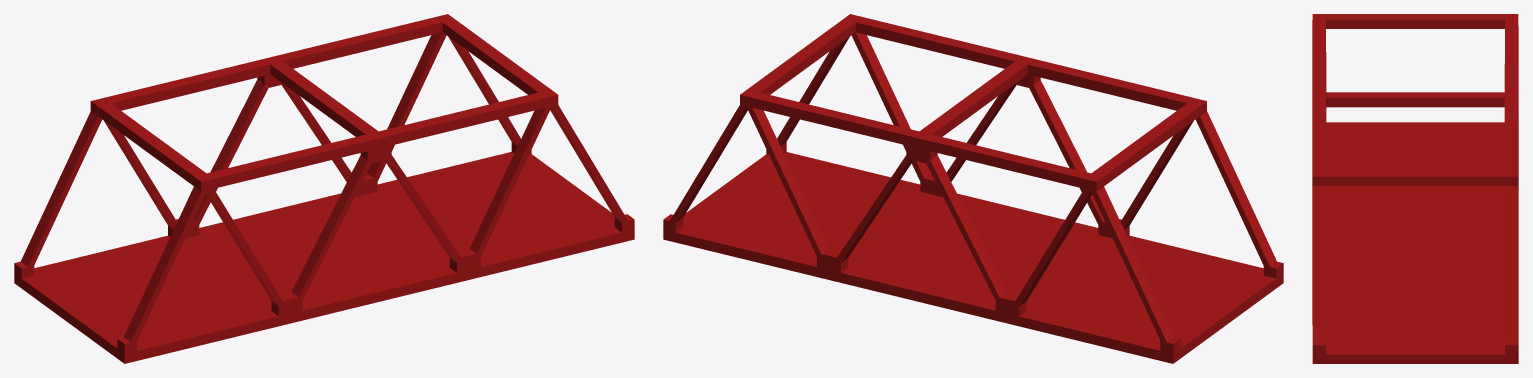
File: santa.obj
3 renders of one model, left to right at view 1: azimuth 30°, elevation 25°; view 2: azimuth 150°, elevation 25°; view 3: azimuth 270°, elevation 25°, orthographic. The views are drawn at different scales.
Parts seen in each view (by area): view 1: object_19, object_8, object_7, object_28, object_25, object_15, object_10, object_23, object_5, object_11, object_18, object_9 (+8 smaller); view 2: object_19, object_7, object_8, object_25, object_28, object_18, object_9, object_23, object_11, object_5, object_15, object_10 (+8 smaller); view 3: object_19, object_5, object_11, object_23, object_7, object_8, object_27, object_26, object_22, object_24.
Part boxes in pixels (x1=…): object_19: x1=14, y1=152, x2=634, y2=363; object_8: x1=194, y1=89, x2=558, y2=191; object_7: x1=90, y1=14, x2=454, y2=115; object_28: x1=124, y1=187, x2=207, y2=342; object_25: x1=20, y1=111, x2=102, y2=266; object_15: x1=469, y1=106, x2=551, y2=256; object_10: x1=291, y1=155, x2=371, y2=300; object_23: x1=98, y1=103, x2=206, y2=185; object_5: x1=270, y1=61, x2=378, y2=136; object_11: x1=442, y1=19, x2=550, y2=94; object_18: x1=367, y1=32, x2=446, y2=181; object_9: x1=193, y1=80, x2=268, y2=224; object_19: x1=663, y1=152, x2=1283, y2=363; object_7: x1=740, y1=89, x2=1103, y2=191; object_8: x1=843, y1=14, x2=1206, y2=115; object_25: x1=1090, y1=187, x2=1173, y2=342; object_28: x1=1195, y1=111, x2=1276, y2=266; object_18: x1=746, y1=106, x2=828, y2=256; object_9: x1=926, y1=155, x2=1006, y2=300; object_23: x1=1091, y1=103, x2=1199, y2=185; object_11: x1=747, y1=19, x2=855, y2=94; object_5: x1=919, y1=61, x2=1027, y2=136; object_15: x1=851, y1=32, x2=930, y2=181; object_10: x1=1029, y1=80, x2=1104, y2=224; object_19: x1=1312, y1=122, x2=1518, y2=363; object_5: x1=1326, y1=92, x2=1504, y2=107; object_11: x1=1326, y1=170, x2=1504, y2=185; object_23: x1=1326, y1=14, x2=1504, y2=28; object_7: x1=1504, y1=14, x2=1518, y2=185; object_8: x1=1312, y1=14, x2=1325, y2=185; object_27: x1=1505, y1=186, x2=1518, y2=342; object_26: x1=1312, y1=186, x2=1325, y2=342; object_22: x1=1312, y1=340, x2=1326, y2=354; object_24: x1=1505, y1=342, x2=1518, y2=354.
Bounding box in the file's own units: 18.42 × 5.64 × 6.91.
